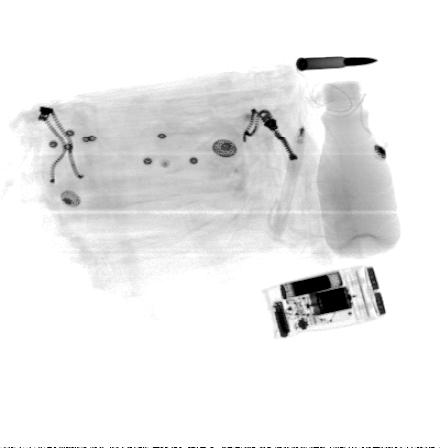Bullet: (294, 56, 382, 71)
